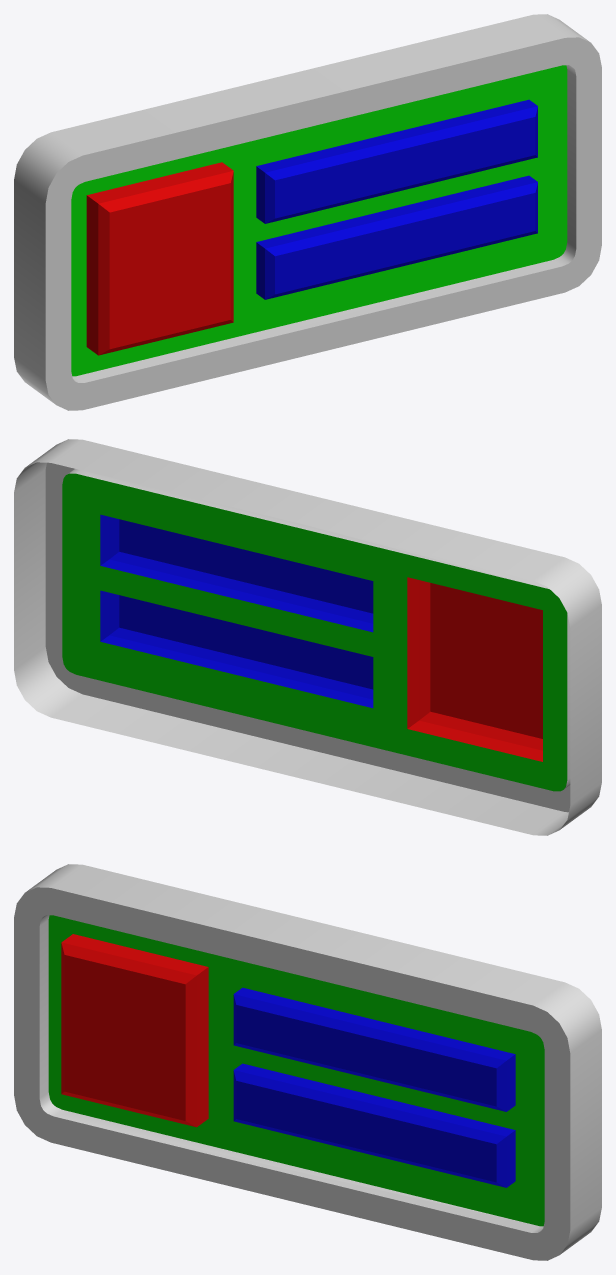
The model's file is Machine2.fbx.
3 views of the same model, one above another, from view 1: azimuth 30°, elevation 25°; view 2: azimuth 150°, elevation 25°; view 3: azimuth 330°, elevation 25° (orthographic).
Visible parts, largest first — view 1: Machine2; view 2: Machine2; view 3: Machine2.
Boxes of the visible parts, bbox=[...] form: Machine2: bbox=[14, 14, 601, 410]; Machine2: bbox=[14, 439, 601, 835]; Machine2: bbox=[14, 864, 601, 1260].
Bounding box in the file's own units: 200 × 87.52 × 23.98.
